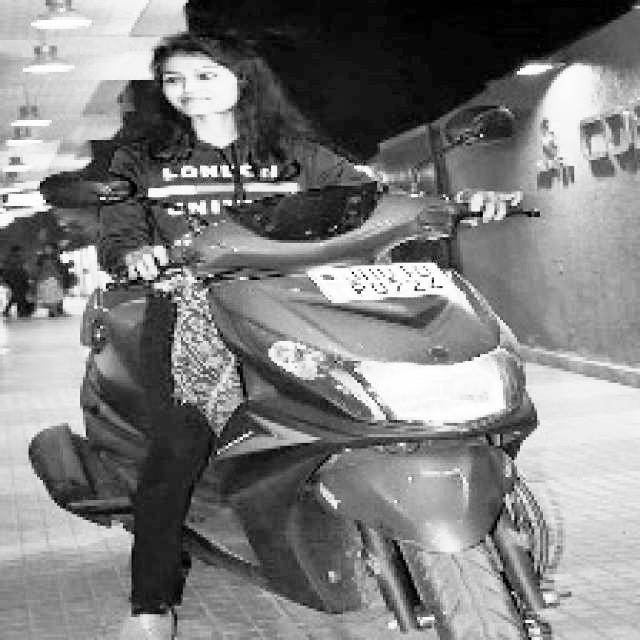Bike: (67, 236, 575, 632)
